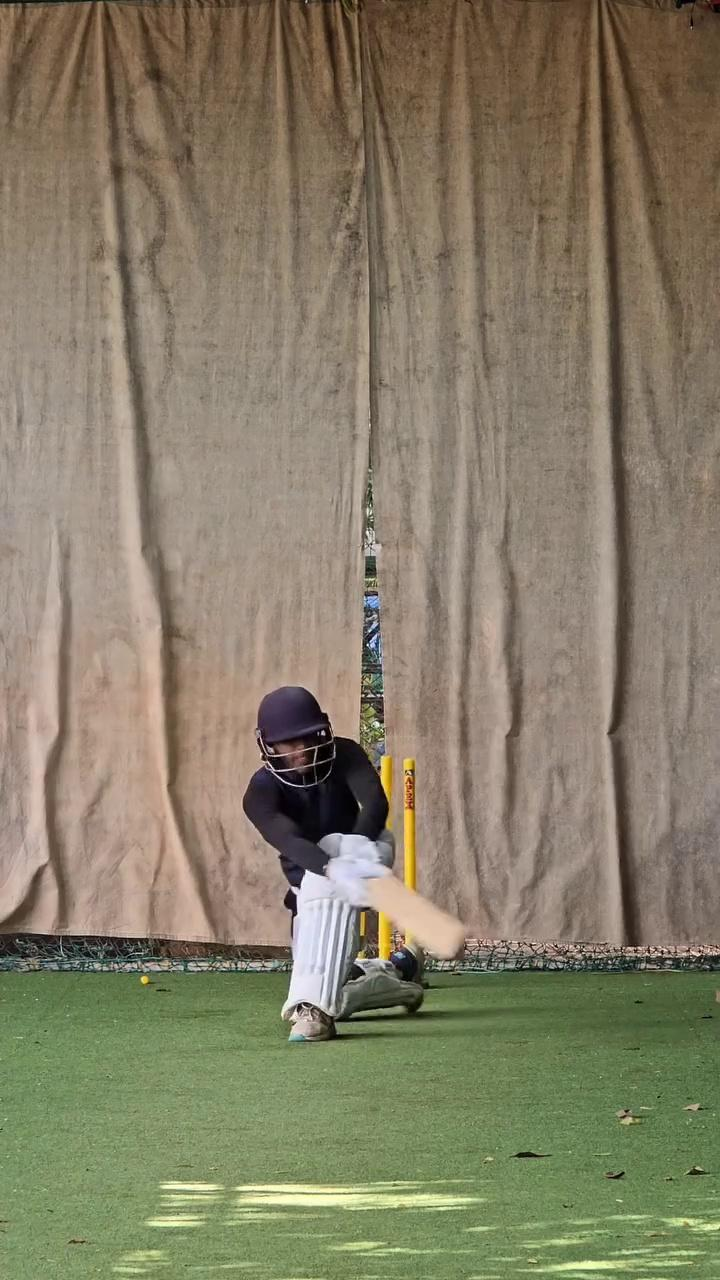bat: (367, 873, 474, 969)
